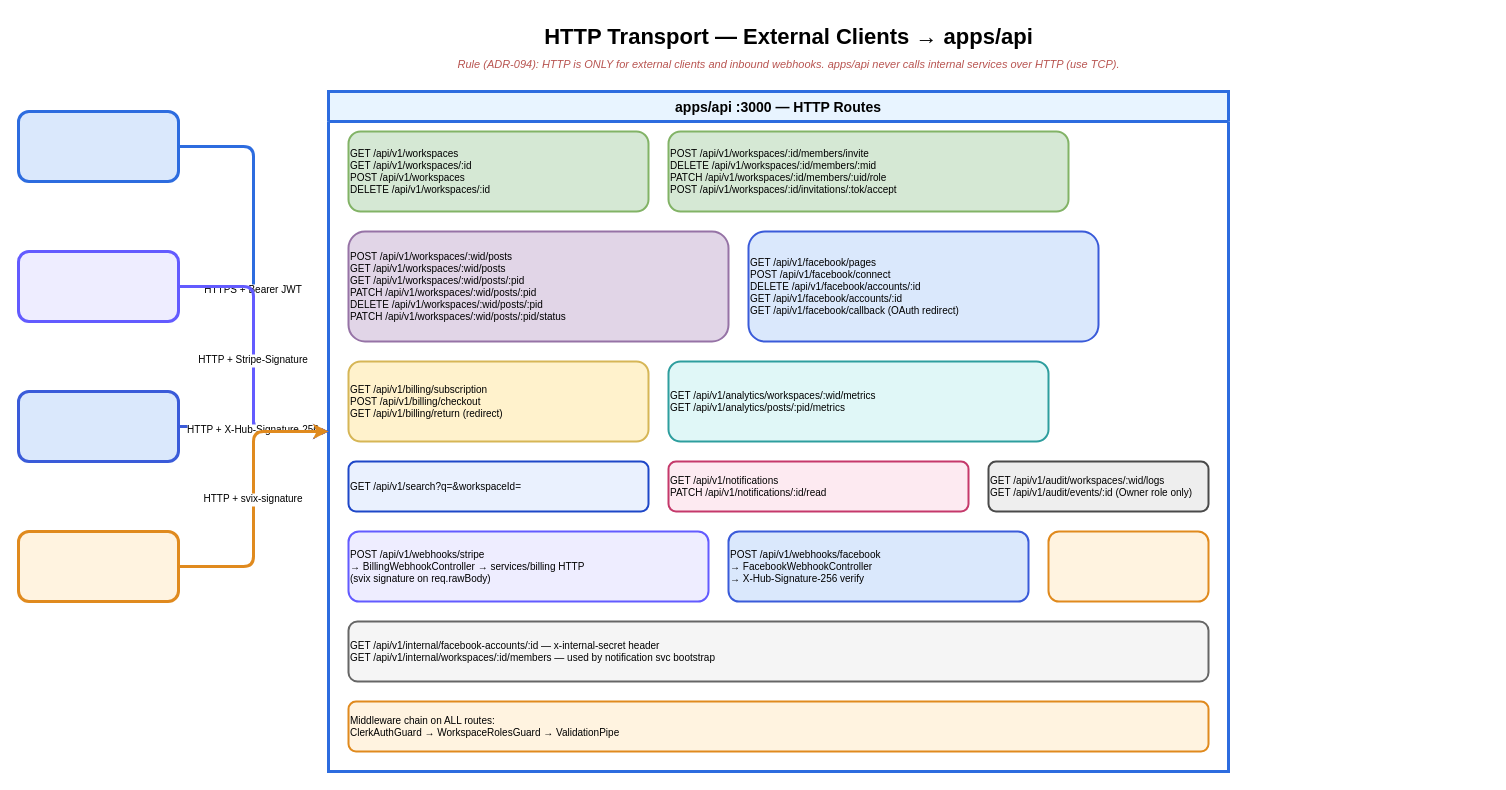
Image size: 1506x790. Some labels were removed from this diagram. The shapes that lost their labels are listed below. From the top down, each one's centre as x and y in pixels, then its label:
At point (98, 146): "Browser Next.js Client".
At point (98, 286): "Stripe (inbound webhook)".
At point (98, 426): "Facebook (inbound webhook)".
At point (98, 566): "Clerk (inbound webhook)".
At point (1128, 566): "POST /api/v1/webhooks/clerk → ClerkWebhookController → svix verify on rawBody".
